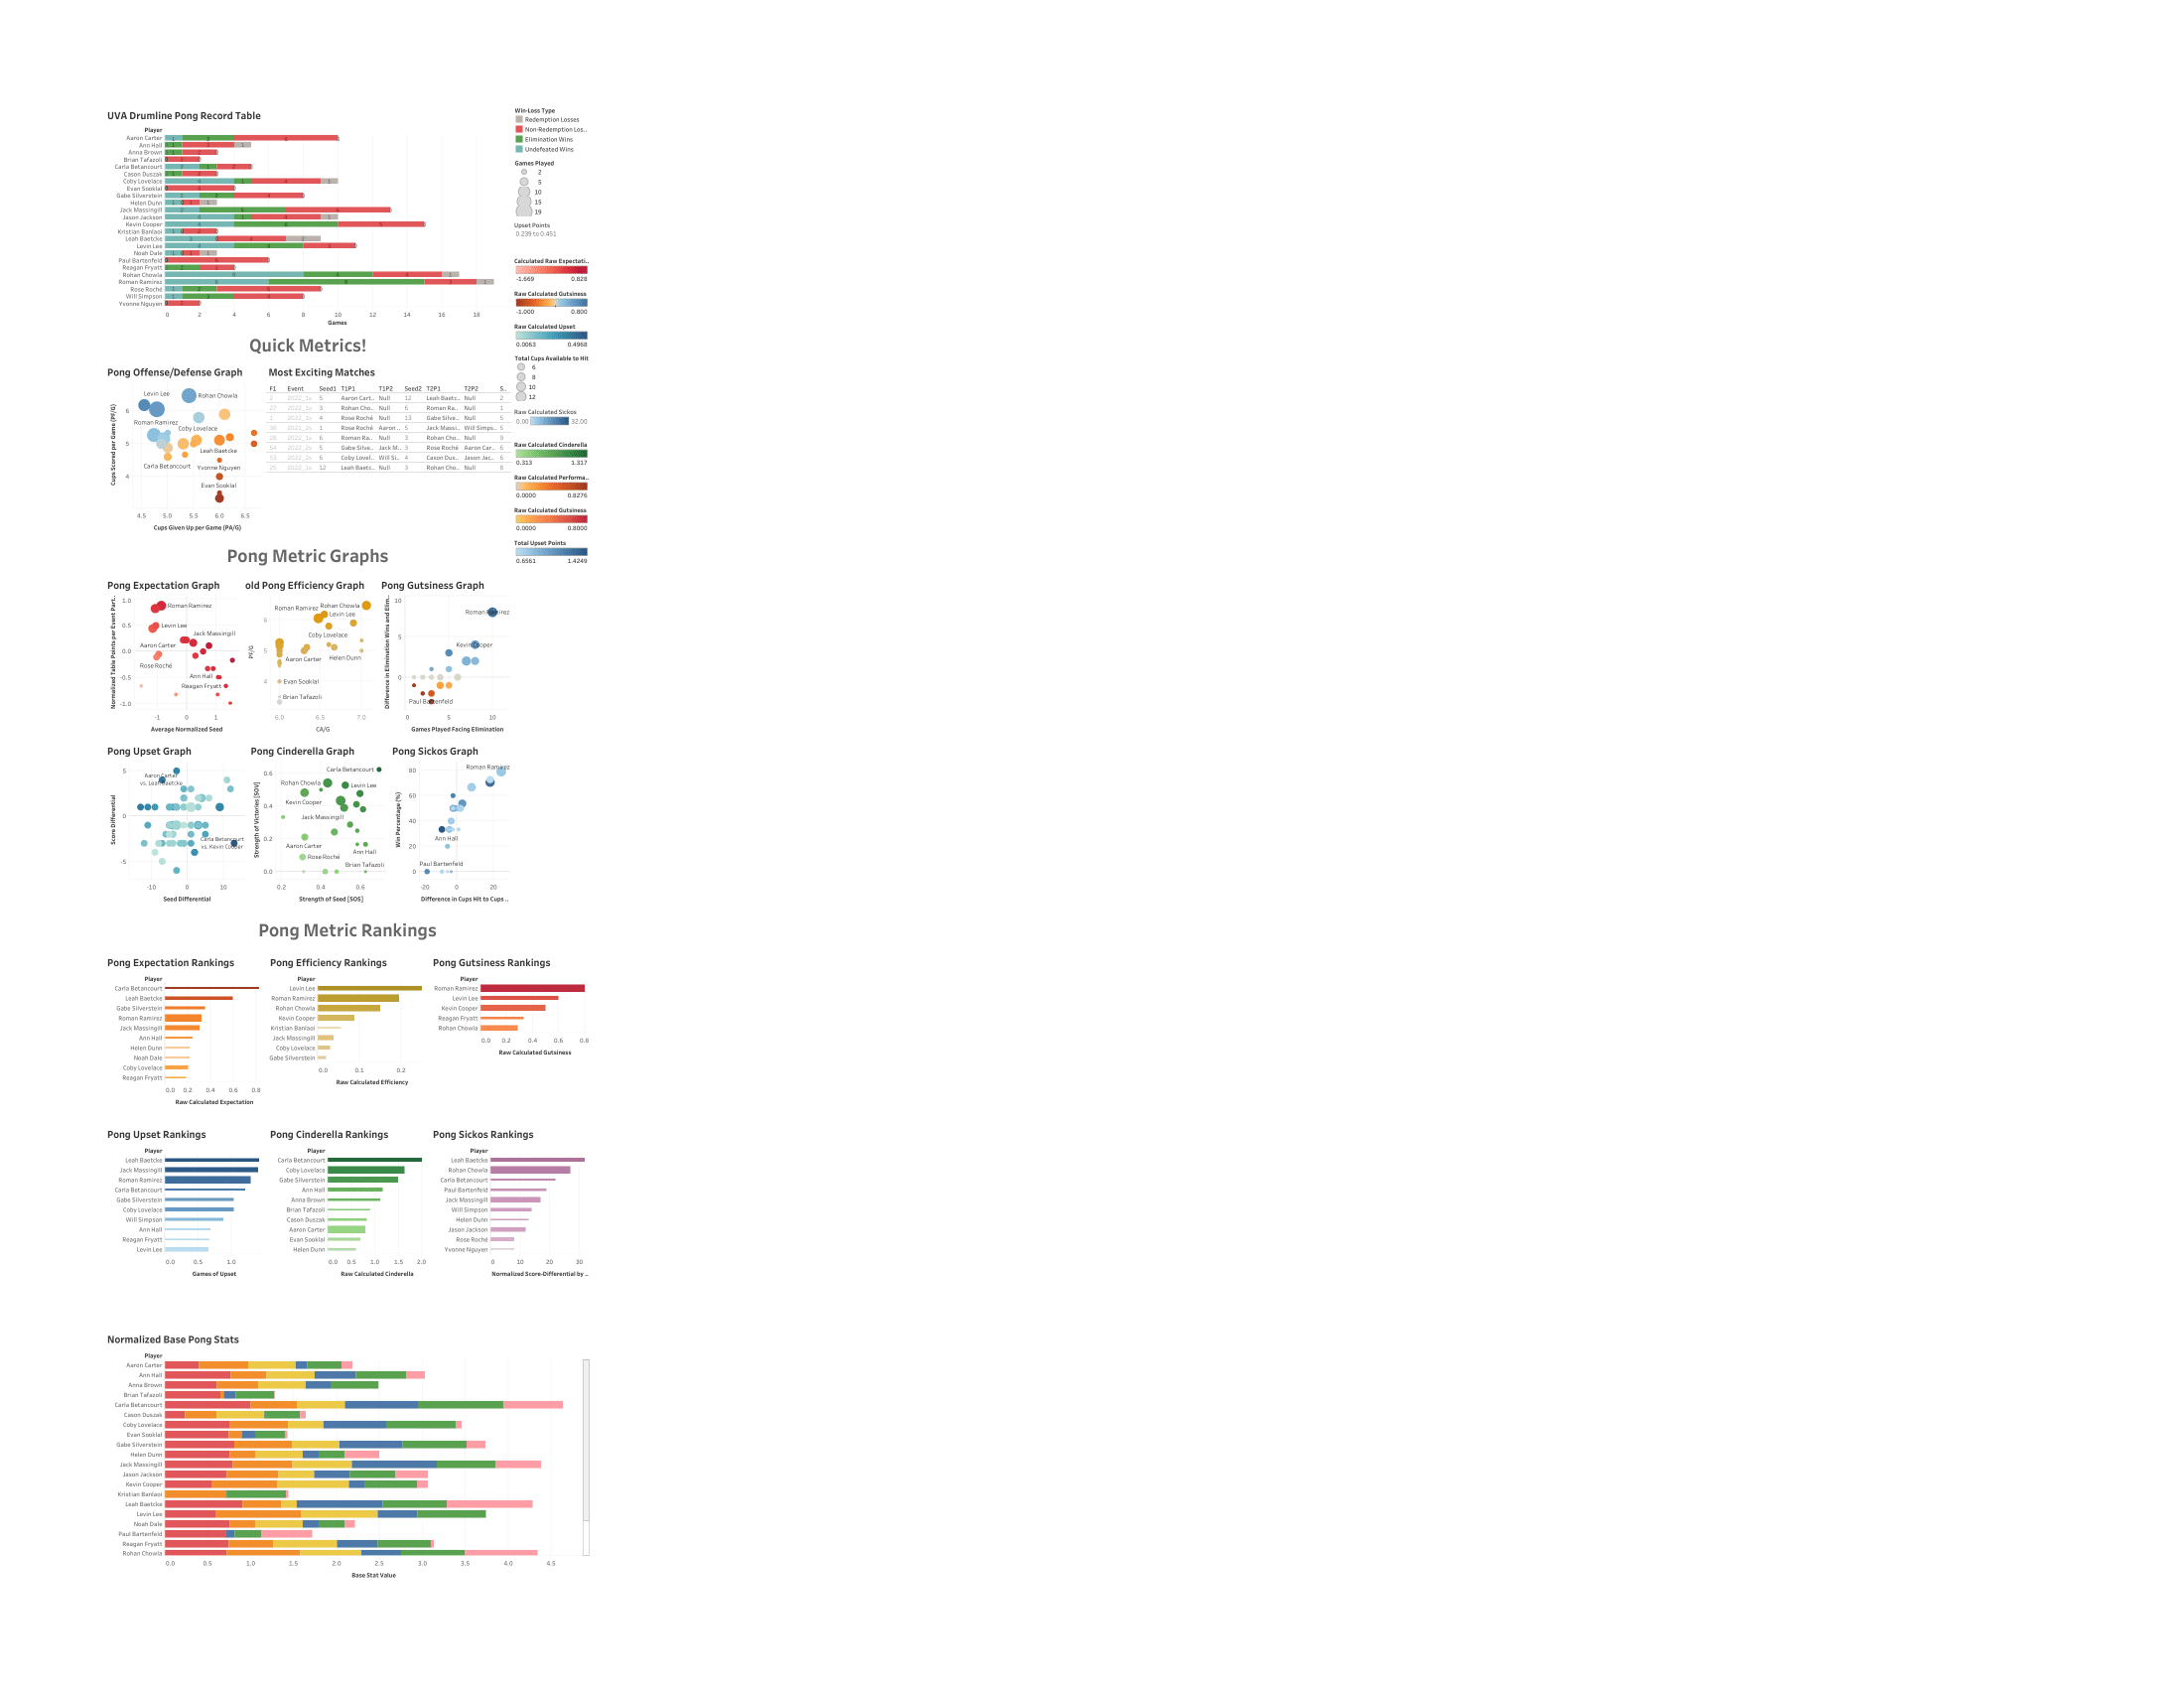

The dashboard page shown, as its layout file describes it:
{"tool":"tableau","page":{"name":"Pong Stats","canvas":[1000,3000],"ordinal":0},"visuals":[{"type":"worksheet","title":"UVA Drumline Pong Record Table","mark":"Bar","rows":["player"],"box":[8,8,823.5,453.7]},{"type":"legend","title":"UVA Drumline Pong Record Table","param":"[federated.16mdugv1dzrxhf10gpcw01bck3ma].[:Measure Names]","box":[831.5,8,160.5,106]},{"type":"legend","title":"Pong Offense/Defense Graph","param":"[federated.16mdugv1dzrxhf10gpcw01bck3ma].[none:GP:qk]","box":[831.5,114,160.5,126]},{"type":"filter","title":"Most Exciting Matches","param":"[federated.1nptvsq124kasd1ca2q4b0eqixc5].[max:abs_upset:qk]","box":[831.5,240,160.5,69]},{"type":"legend","title":"Pong Expectation Graph","param":"[federated.16mdugv1dzrxhf10gpcw01bck3ma].[attr:raw_expectation:qk]","box":[831.5,309,160.5,65]},{"type":"legend","title":"Pong Gutsiness Graph","param":"[federated.16mdugv1dzrxhf10gpcw01bck3ma].[none:raw_gutsiness:qk]","box":[831.5,374,160.5,65]},{"type":"legend","title":"Pong Upset Graph","param":"[federated.1nptvsq124kasd1ca2q4b0eqixc5].[none:abs_upset:qk]","box":[831.5,439.1,160.5,65]},{"type":"text","box":[8,462,823.5,63]},{"type":"legend","title":"Pong Upset Graph","param":"[federated.1nptvsq124kasd1ca2q4b0eqixc5].[none:tpc:qk]","box":[831.5,504.1,160.5,106]},{"type":"worksheet","title":"Pong Offense/Defense Graph","mark":"Automatic","rows":["PF/G"],"cols":["PA/G"],"box":[8,525,325,357]},{"type":"worksheet","title":"Most Exciting Matches","mark":"Bar","rows":["F1","event","seed1","t1p1","t1p2","seed2","t2p1","t2p2","Score1 (copy)_2066589330454933506","Score2 (copy)_2066589330454945795"],"cols":["upset"],"box":[333,525,498.5,357]},{"type":"legend","title":"Pong Sickos Graph","param":"[federated.16mdugv1dzrxhf10gpcw01bck3ma].[none:raw_sickos:qk]","box":[831.5,610.1,160.5,65]},{"type":"legend","title":"Pong Cinderella Graph","param":"[federated.16mdugv1dzrxhf10gpcw01bck3ma].[sum:Calculation_1408500835470704651:qk","box":[831.5,675.1,160.5,65]},{"type":"legend","title":"Pong Expectation Rankings","param":"[federated.16mdugv1dzrxhf10gpcw01bck3ma].[sum:raw_expectation:qk]","box":[831.5,740.1,160.5,65]},{"type":"legend","title":"Pong Gutsiness Rankings","param":"[federated.16mdugv1dzrxhf10gpcw01bck3ma].[none:raw_gutsiness:qk]","box":[831.5,805.1,160.5,65]},{"type":"legend","title":"Pong Upset Rankings","param":"[federated.16mdugv1dzrxhf10gpcw01bck3ma].[none:total_upset:qk]","box":[831.5,870.1,160.5,65]},{"type":"text","box":[8,882,823.5,72]},{"type":"worksheet","title":"Pong Expectation Graph","mark":"Automatic","rows":["z_PTS/EV"],"cols":["avg_norm_seed"],"box":[8,954,278.2,334]},{"type":"worksheet","title":"old Pong Efficiency Graph","mark":"Automatic","rows":["PF/G"],"cols":["CA/G"],"box":[286.2,954,274.2,334]},{"type":"worksheet","title":"Pong Gutsiness Graph","mark":"Automatic","rows":["Calculation_1408500835437002756"],"cols":["EGP"],"box":[560.3,954,271.2,334]},{"type":"worksheet","title":"Pong Upset Graph","mark":"Automatic","rows":["D_scores"],"cols":["D_seeds"],"box":[8,1288,289,342]},{"type":"worksheet","title":"Pong Cinderella Graph","mark":"Automatic","rows":["SOV"],"cols":["SOS"],"box":[297,1288,285,342]},{"type":"worksheet","title":"Pong Sickos Graph","mark":"Automatic","rows":["W_PCT"],"cols":["+/-"],"box":[582,1288,249.5,342]},{"type":"text","box":[8,1630,984,84]},{"type":"worksheet","title":"Pong Expectation Rankings","mark":"Bar","rows":["player"],"cols":["raw_expectation"],"box":[8,1714,328,325]},{"type":"worksheet","title":"Pong Efficiency Rankings","mark":"Automatic","rows":["player"],"cols":["(+/-)/CA"],"box":[336,1714,328,346]},{"type":"worksheet","title":"Pong Gutsiness Rankings","mark":"Bar","rows":["player"],"cols":["raw_gutsiness"],"box":[664,1714,328,346]},{"type":"worksheet","title":"Pong Upset Rankings","mark":"Automatic","rows":["player"],"cols":["total_upset"],"box":[8,2060,328,413]},{"type":"worksheet","title":"Pong Cinderella Rankings","mark":"Automatic","rows":["player"],"cols":["raw_cinderella"],"box":[336,2060,328,413]},{"type":"worksheet","title":"Pong Sickos Rankings","mark":"Automatic","rows":["player"],"cols":["raw_sickos"],"box":[664,2060,328,413]},{"type":"worksheet","title":"Normalized Base Pong Stats","mark":"Automatic","rows":["player"],"box":[8,2473,984,519]}]}

Visuals, with their boxes on the page's 1000x3000 design canvas (x1, y1, x2, y2). These are canvas units, not pixel positions in the 2184x1688 screenshot, which may show the page scaled, cropped or inside an application window:
"UVA Drumline Pong Record Table" worksheet (Bar marks): x1=8, y1=8, x2=832, y2=462
"UVA Drumline Pong Record Table" legend: x1=832, y1=8, x2=992, y2=114
"Pong Offense/Defense Graph" legend: x1=832, y1=114, x2=992, y2=240
"Most Exciting Matches" filter: x1=832, y1=240, x2=992, y2=309
"Pong Expectation Graph" legend: x1=832, y1=309, x2=992, y2=374
"Pong Gutsiness Graph" legend: x1=832, y1=374, x2=992, y2=439
"Pong Upset Graph" legend: x1=832, y1=439, x2=992, y2=504
text: x1=8, y1=462, x2=832, y2=525
"Pong Upset Graph" legend: x1=832, y1=504, x2=992, y2=610
"Pong Offense/Defense Graph" worksheet: x1=8, y1=525, x2=333, y2=882
"Most Exciting Matches" worksheet (Bar marks): x1=333, y1=525, x2=832, y2=882
"Pong Sickos Graph" legend: x1=832, y1=610, x2=992, y2=675
"Pong Cinderella Graph" legend: x1=832, y1=675, x2=992, y2=740
"Pong Expectation Rankings" legend: x1=832, y1=740, x2=992, y2=805
"Pong Gutsiness Rankings" legend: x1=832, y1=805, x2=992, y2=870
"Pong Upset Rankings" legend: x1=832, y1=870, x2=992, y2=935
text: x1=8, y1=882, x2=832, y2=954
"Pong Expectation Graph" worksheet: x1=8, y1=954, x2=286, y2=1288
"old Pong Efficiency Graph" worksheet: x1=286, y1=954, x2=560, y2=1288
"Pong Gutsiness Graph" worksheet: x1=560, y1=954, x2=832, y2=1288
"Pong Upset Graph" worksheet: x1=8, y1=1288, x2=297, y2=1630
"Pong Cinderella Graph" worksheet: x1=297, y1=1288, x2=582, y2=1630
"Pong Sickos Graph" worksheet: x1=582, y1=1288, x2=832, y2=1630
text: x1=8, y1=1630, x2=992, y2=1714
"Pong Expectation Rankings" worksheet (Bar marks): x1=8, y1=1714, x2=336, y2=2039
"Pong Efficiency Rankings" worksheet: x1=336, y1=1714, x2=664, y2=2060
"Pong Gutsiness Rankings" worksheet (Bar marks): x1=664, y1=1714, x2=992, y2=2060
"Pong Upset Rankings" worksheet: x1=8, y1=2060, x2=336, y2=2473
"Pong Cinderella Rankings" worksheet: x1=336, y1=2060, x2=664, y2=2473
"Pong Sickos Rankings" worksheet: x1=664, y1=2060, x2=992, y2=2473
"Normalized Base Pong Stats" worksheet: x1=8, y1=2473, x2=992, y2=2992
